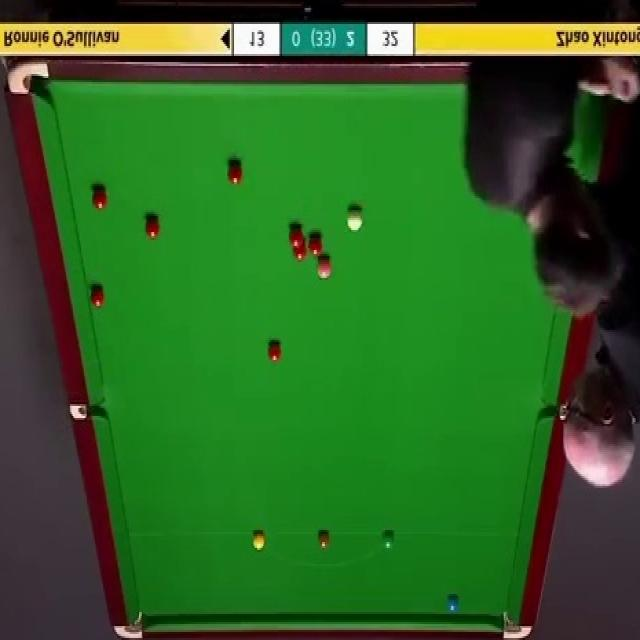blue-ball: (445, 593, 461, 618)
brown-ball: (317, 529, 331, 549)
green-ball: (382, 528, 396, 550)
pink-ball: (314, 255, 332, 279)
red-ball: (92, 184, 108, 212), (144, 212, 160, 239), (228, 161, 244, 186), (267, 340, 283, 364), (307, 235, 324, 257), (288, 224, 304, 247), (89, 285, 104, 309), (291, 240, 308, 261)
white-ball: (345, 203, 364, 234)
yellow-ball: (252, 530, 266, 550)
